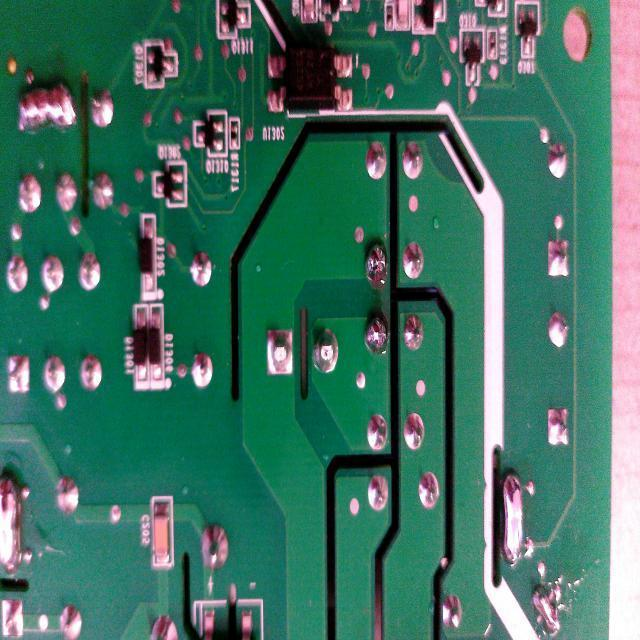Soldering shorted: (494, 451, 532, 576), (12, 73, 78, 139), (526, 574, 570, 637), (0, 473, 27, 574)
